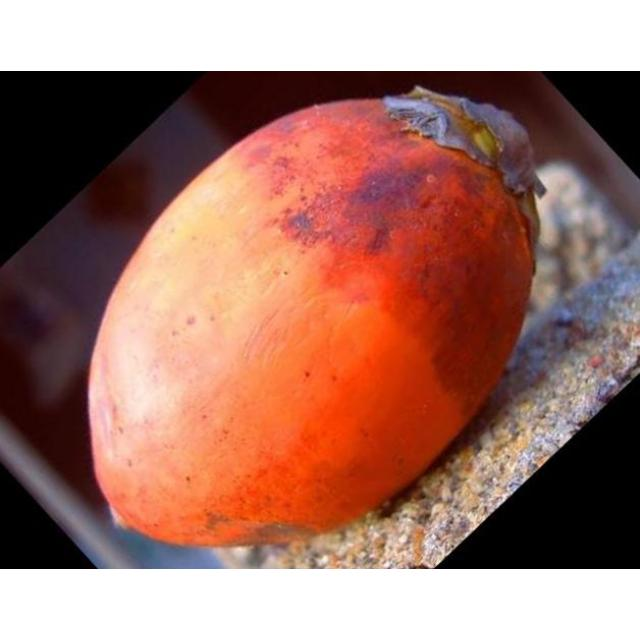good: (90, 96, 540, 548)
